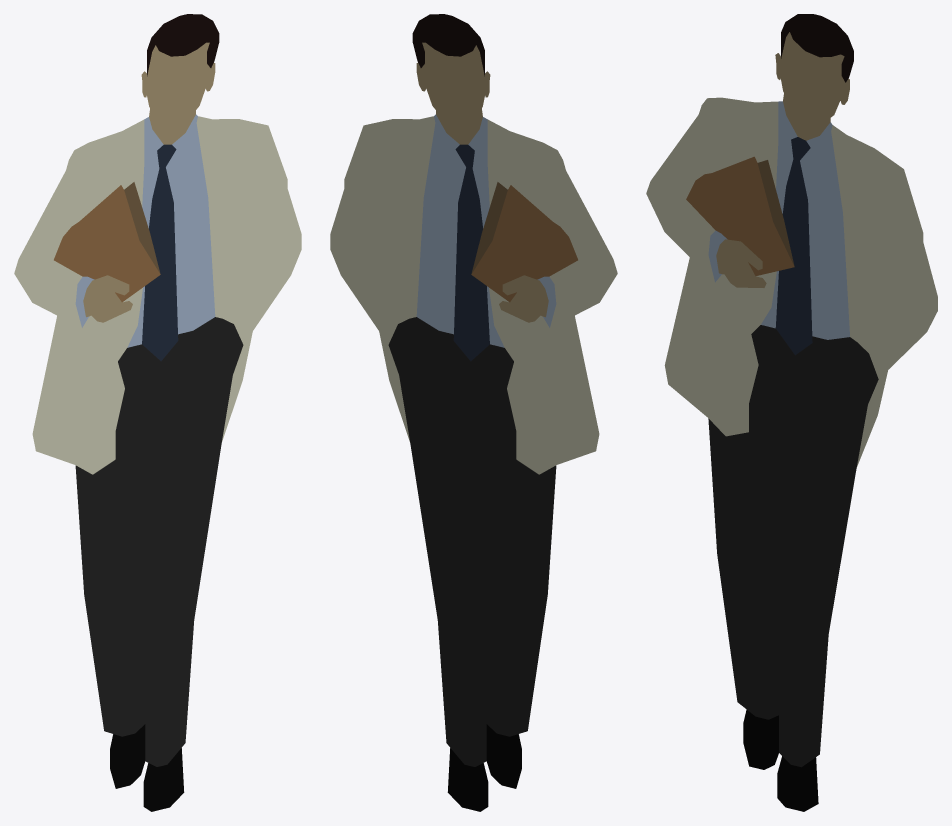
The model's file is 2D_Man_Business-scrubs.fbx.
3 views of the same model, side by side, from view 1: azimuth 30°, elevation 25°; view 2: azimuth 150°, elevation 25°; view 3: azimuth 330°, elevation 25° (orthographic).
Parts seen in each view (by area): view 1: Model; view 2: Model; view 3: Model.
Part boxes in pixels (x1,y1,x2,y2): Model: (14, 14, 301, 811); Model: (330, 14, 617, 811); Model: (646, 14, 937, 811).
Size of the model in its own units: 38.14 by 100 by 2.93e-11.
